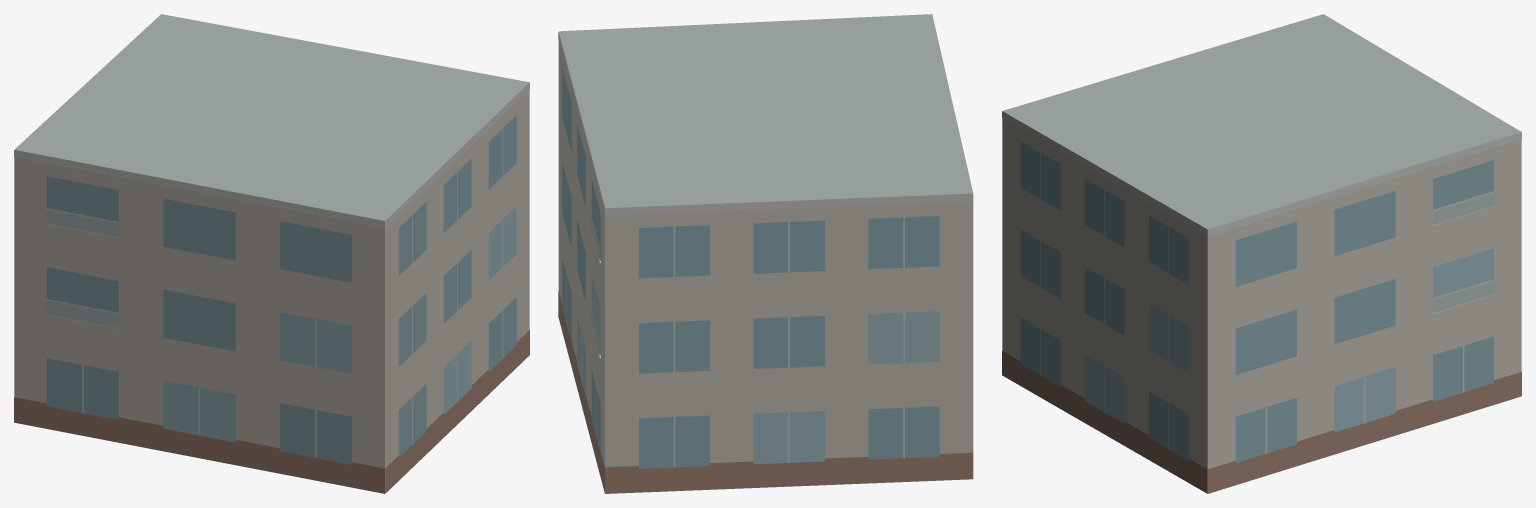
The model's file is survey-upis-32693663.glb.
The picture shows the model from 3 angles, left to right: view 1: azimuth 30°, elevation 25°; view 2: azimuth 150°, elevation 25°; view 3: azimuth 270°, elevation 25°; orthographic projection. The views are drawn at different scales.
Parts seen in each view (by area): view 1: survey-upis-32693663.tmp; view 2: survey-upis-32693663.tmp; view 3: survey-upis-32693663.tmp.
Boxes of the visible parts, x1=… form: survey-upis-32693663.tmp: x1=14, y1=14, x2=529, y2=493; survey-upis-32693663.tmp: x1=558, y1=14, x2=973, y2=493; survey-upis-32693663.tmp: x1=1002, y1=14, x2=1521, y2=493.
Bounding box in the file's own units: 16.01 × 9.15 × 16.31.
